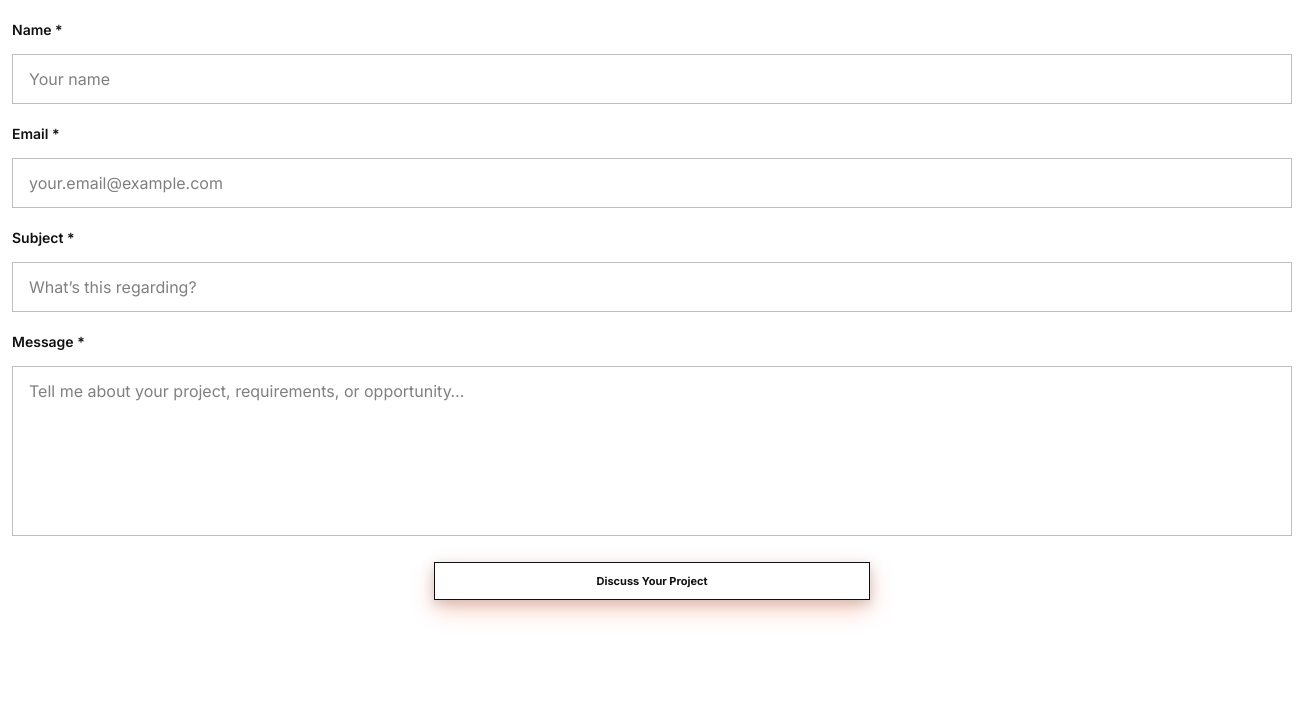
ContactForm › handles network failure
In the field labelled "Name *": (652, 79) x1=12 y1=54 x2=1292 y2=104, type "John Doe"
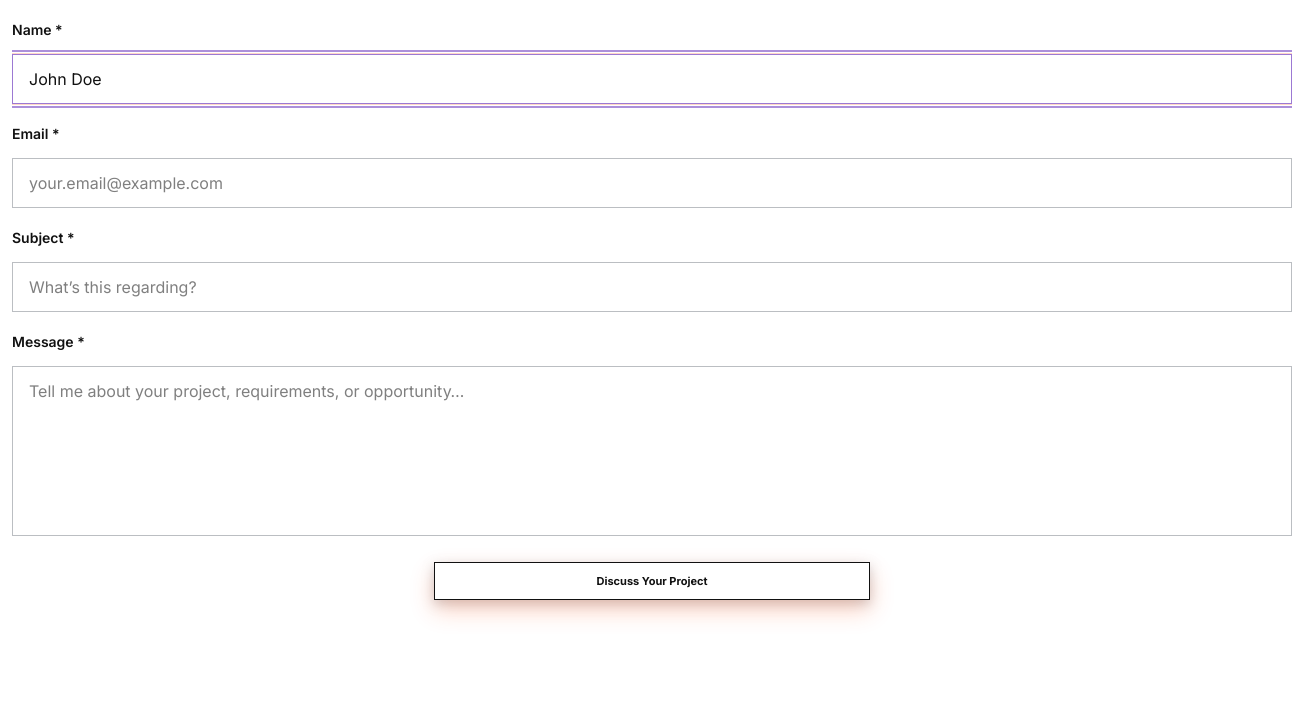
In the field labelled "Email *": (652, 183) x1=12 y1=158 x2=1292 y2=208, type "john@example.com"
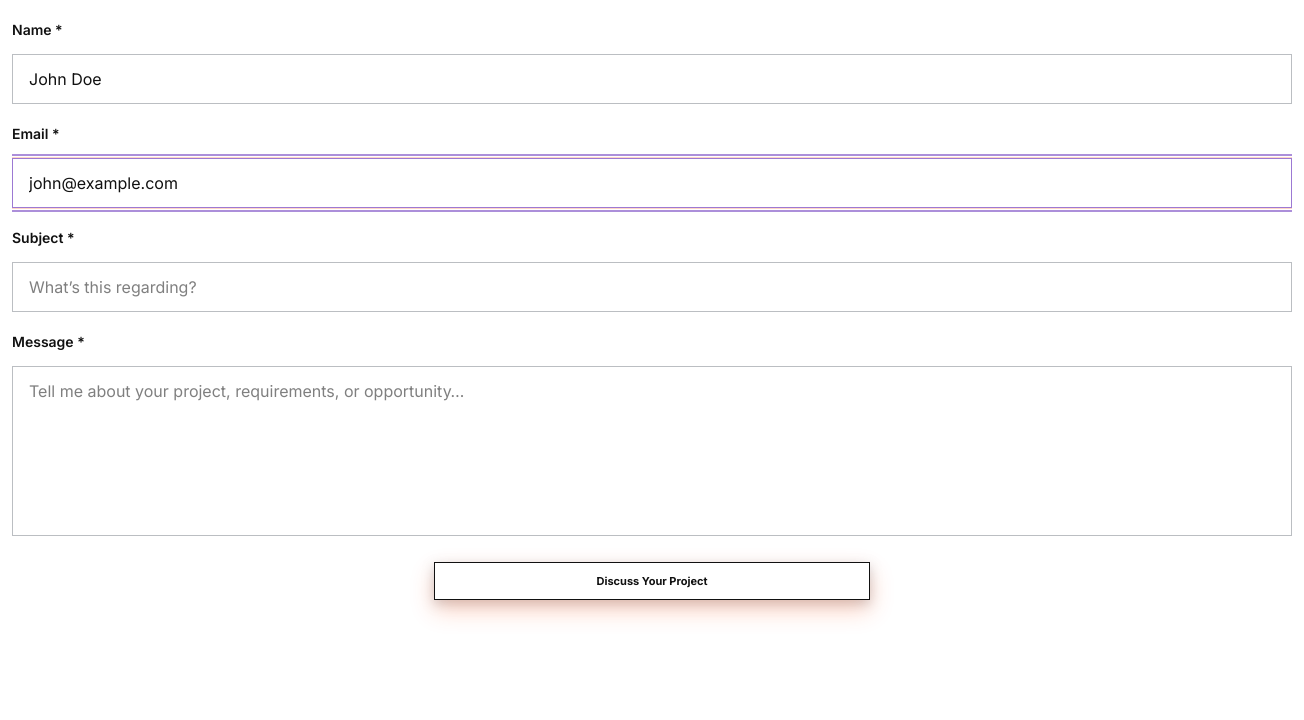
In the field labelled "Subject *": (652, 287) x1=12 y1=262 x2=1292 y2=312, type "Test Subject"
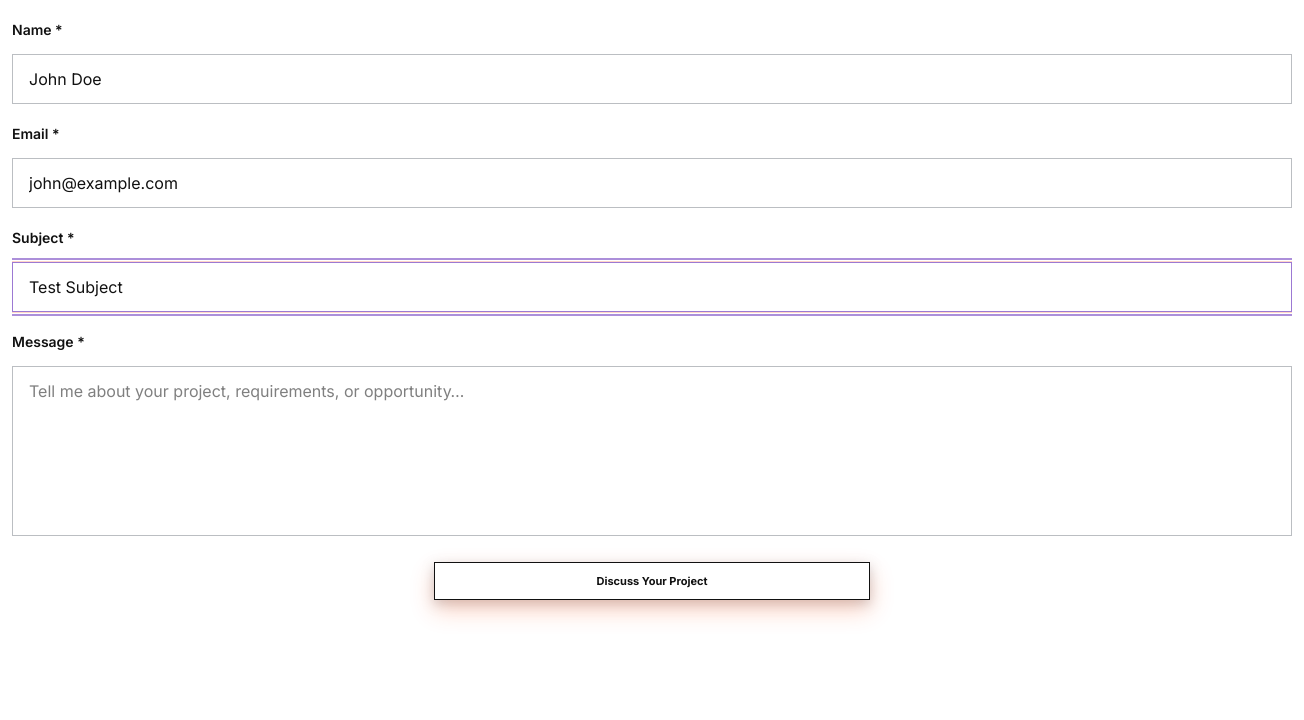
In the text box labelled "Message *": (652, 451) x1=12 y1=366 x2=1292 y2=536, type "Test message content"
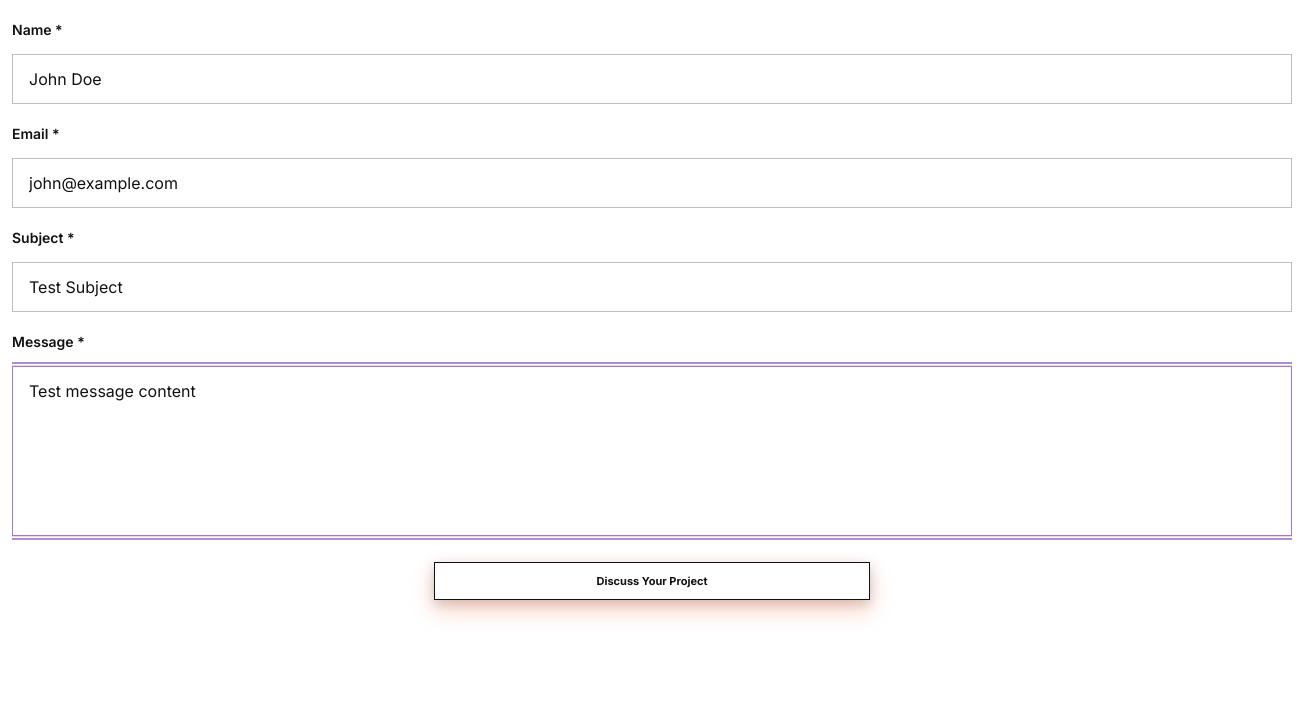
Click the button "Discuss Your Project": (652, 581) x1=434 y1=562 x2=870 y2=600
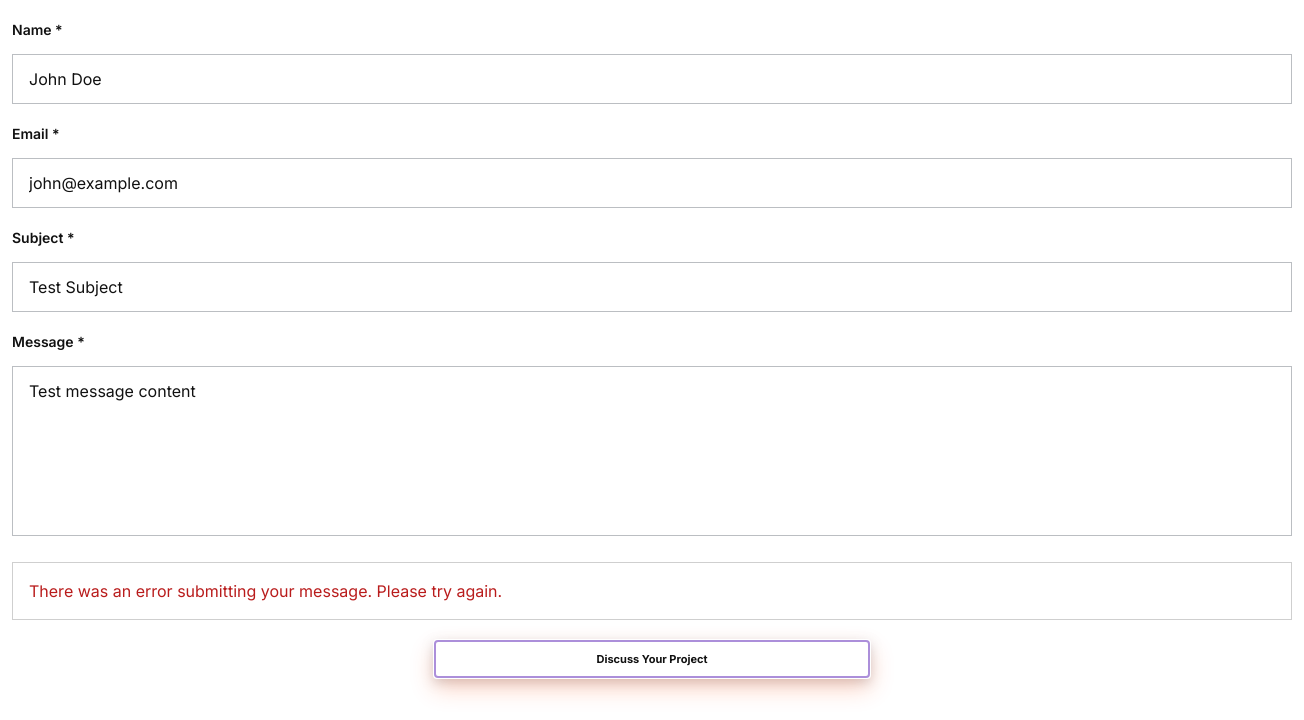
Result: the text "error submitting" is shown at x1=29 y1=581 x2=502 y2=601
